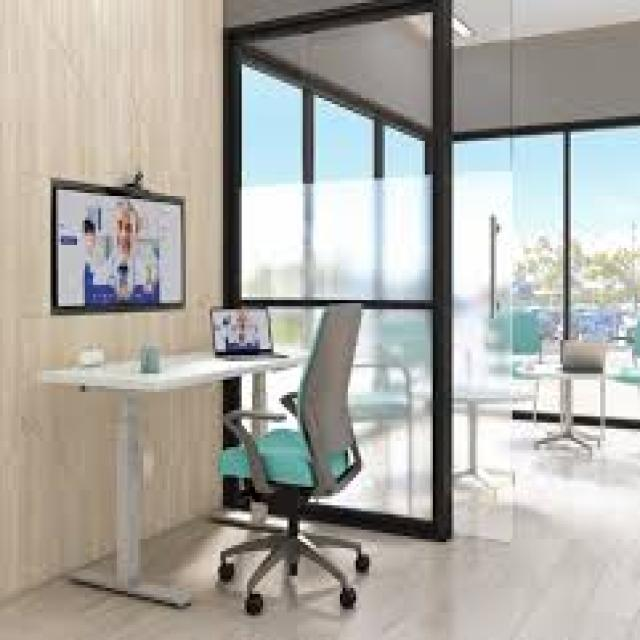chair: (203, 289, 395, 633), (472, 311, 552, 422)
